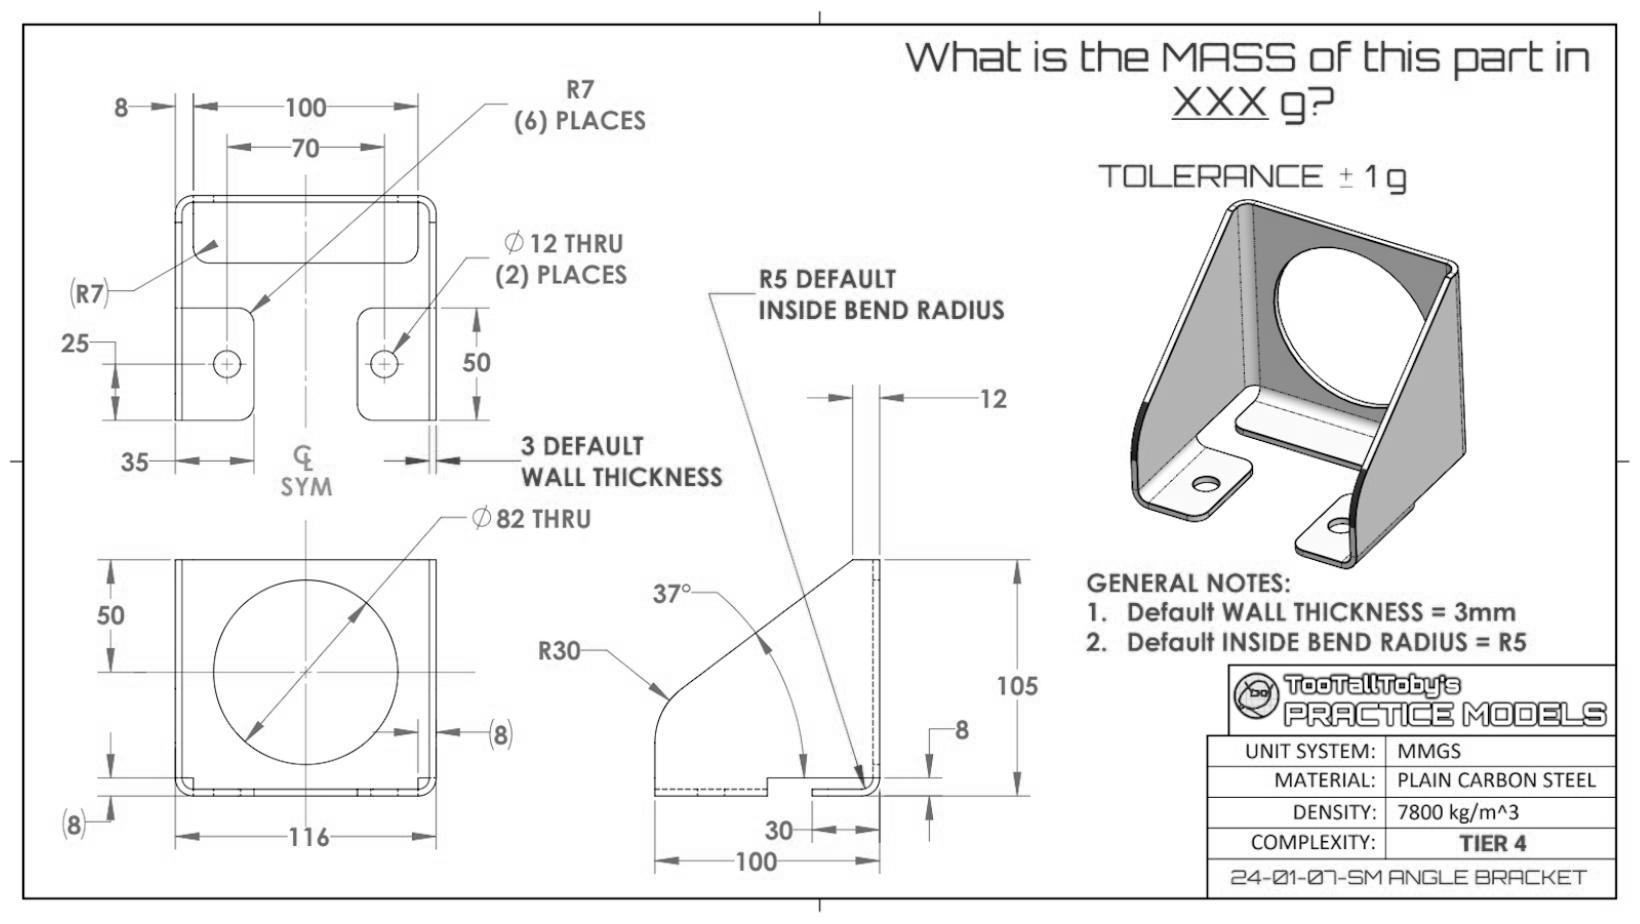-: (1338, 166, 1355, 192)
0: (109, 604, 126, 627), (1008, 676, 1025, 698), (749, 849, 763, 873), (312, 97, 327, 119), (763, 852, 778, 872), (568, 640, 582, 661), (478, 350, 491, 373), (300, 97, 313, 118), (305, 136, 319, 158), (779, 820, 793, 841), (1419, 801, 1432, 820), (1433, 802, 1444, 821)
1: (1362, 162, 1380, 190), (287, 826, 302, 849), (285, 96, 297, 119), (529, 231, 542, 255), (1087, 598, 1098, 623), (981, 385, 991, 411), (737, 850, 747, 874), (302, 826, 313, 847), (997, 676, 1008, 698)
2: (60, 331, 77, 355), (510, 507, 527, 531), (1085, 631, 1102, 654), (993, 387, 1009, 410), (505, 263, 520, 285), (543, 233, 558, 256)
3: (1454, 601, 1469, 625), (520, 434, 535, 457), (764, 819, 779, 841), (553, 639, 567, 664), (121, 451, 135, 472), (652, 584, 666, 604)
5: (74, 329, 90, 357), (95, 602, 112, 627), (1513, 630, 1528, 656), (135, 451, 150, 474), (1024, 675, 1040, 696), (462, 352, 478, 372), (775, 268, 788, 288)
6: (315, 826, 331, 850), (524, 109, 537, 133)
7: (289, 135, 306, 159), (89, 283, 105, 305), (666, 583, 681, 604), (581, 78, 595, 99), (1396, 802, 1408, 820)
8: (114, 95, 130, 119), (954, 718, 971, 739), (496, 507, 511, 530), (494, 725, 509, 747), (66, 816, 82, 836), (1409, 803, 1420, 820)
Coma: (1099, 615, 1109, 625), (1099, 646, 1107, 652)
Default: (795, 267, 899, 292), (543, 435, 647, 457), (1126, 601, 1216, 624), (1126, 631, 1216, 655)
Degrees: (681, 581, 692, 596)
Density: (1290, 802, 1380, 823)
Diameter: (470, 503, 493, 533), (503, 230, 525, 255)
GeneralNotes: (1084, 569, 1294, 597)
InsideBendRadius: (1222, 630, 1469, 656), (757, 299, 1008, 323)
MMGS: (1397, 743, 1464, 759)
Material: (1273, 770, 1376, 791)
Places: (554, 108, 648, 133), (535, 264, 626, 286)
PlainCarbonSteel: (1397, 771, 1599, 790)
Radius: (758, 265, 774, 291), (536, 639, 553, 661), (1497, 631, 1514, 654), (565, 77, 580, 101), (75, 282, 89, 305)
SYM: (279, 476, 333, 498)
Symmetry: (292, 442, 314, 473)
Thru: (532, 506, 591, 531), (564, 232, 626, 254)
UnitSystem: (1244, 741, 1379, 763)
WallThickness: (1221, 599, 1427, 623), (519, 465, 724, 488)
X: (1170, 83, 1204, 117), (1203, 85, 1236, 117), (1238, 85, 1268, 117)
grams: (1276, 89, 1309, 126), (1385, 166, 1407, 198)
